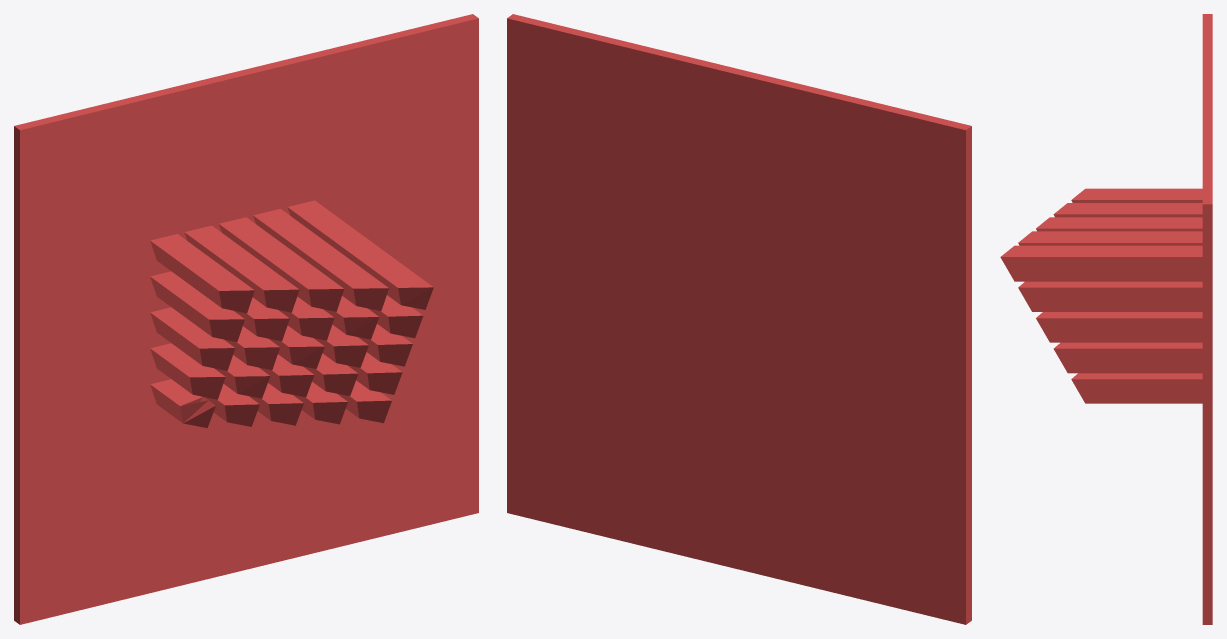
Rendered from yohoo.gltf.
The picture shows the model from 3 angles, left to right: view 1: azimuth 30°, elevation 25°; view 2: azimuth 150°, elevation 25°; view 3: azimuth 270°, elevation 25°; orthographic projection. The views are drawn at different scales.
Parts seen in each view (by area): view 1: yohoo; view 2: yohoo; view 3: yohoo.
Boxes of the visible parts, <box> form: yohoo: <box>14,14,478,624</box>; yohoo: <box>507,14,971,624</box>; yohoo: <box>1000,14,1212,624</box>.
Bounding box in the file's own units: 6.68 × 6.88 × 3.15.
